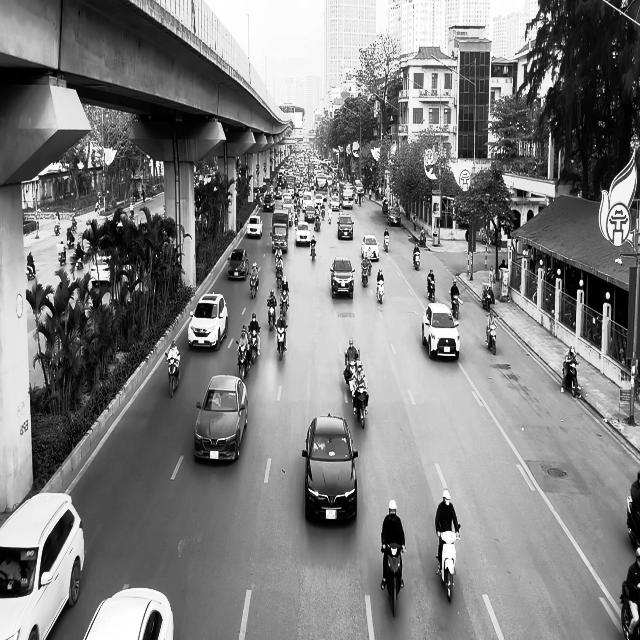car: (0, 492, 85, 640), (302, 413, 359, 522), (84, 586, 174, 640), (194, 374, 248, 462), (188, 292, 228, 351), (422, 302, 460, 360), (330, 256, 356, 299), (228, 248, 250, 280), (361, 234, 380, 260), (338, 215, 354, 240), (296, 222, 311, 246), (247, 216, 263, 238), (388, 206, 401, 226)
motorbike: (382, 543, 406, 617), (438, 530, 461, 602), (620, 581, 640, 639), (349, 378, 369, 429), (561, 361, 582, 398), (165, 350, 181, 398), (627, 496, 640, 548), (236, 342, 251, 381), (276, 324, 288, 360), (486, 323, 497, 354), (482, 284, 494, 310), (451, 294, 463, 320), (268, 300, 277, 330), (376, 279, 385, 304), (26, 261, 36, 280), (428, 280, 436, 302), (310, 237, 317, 260), (414, 251, 421, 270), (384, 233, 389, 252)
